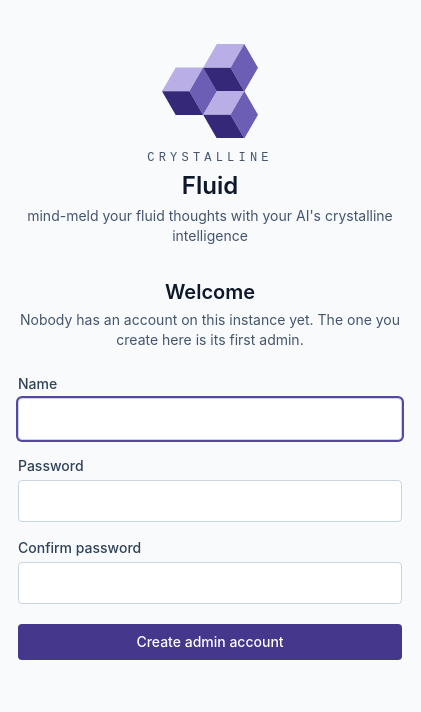
Scenario: an instance with no accounts yet › offers no token field when the refusal carries no token to offer
Type "ada" into the field labelled "Name".
click(210, 419); type("ada")  # box [18,398,402,440]
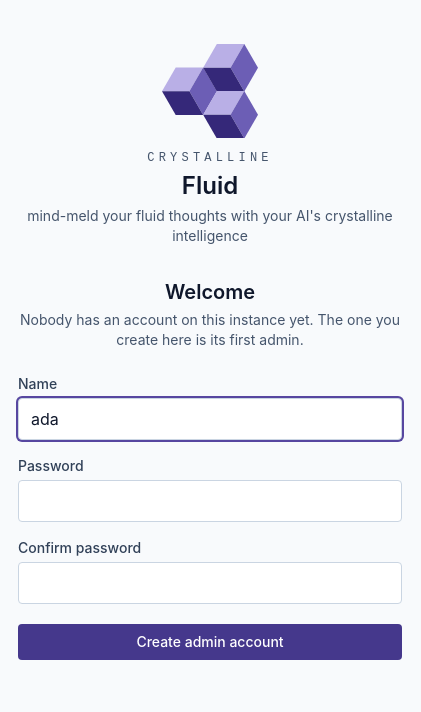
Type "hunter2" into the password field labelled "Password".
click(210, 501); type("hunter2")  # box [18,480,402,522]
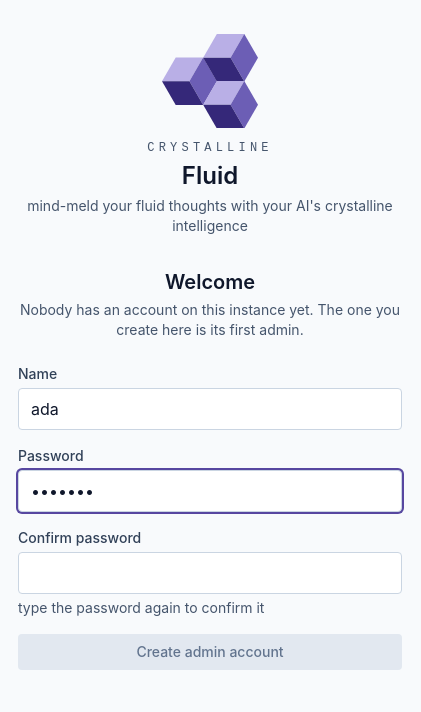
Type "hunter2" into the password field labelled "Confirm password".
click(210, 573); type("hunter2")  # box [18,552,402,594]
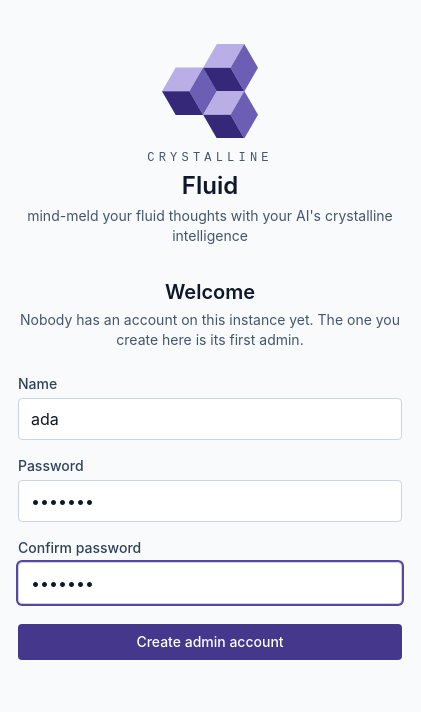
Click the button "Create admin account".
click(210, 642)  # box [18,624,402,660]
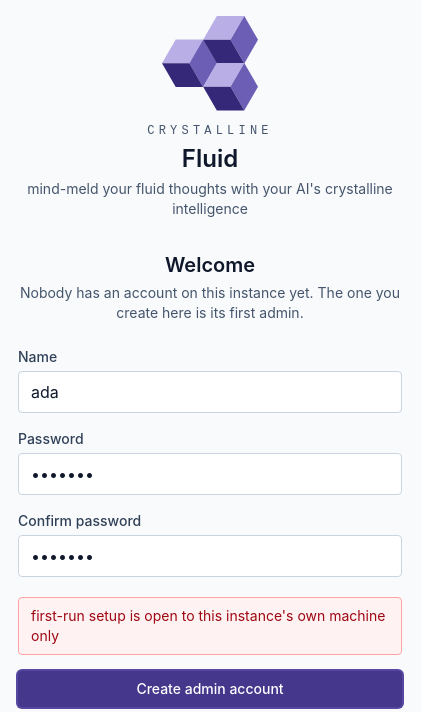
Expected: the text "first-run setup is open to this instance's own machine only" is shown, [18,596,402,654]
